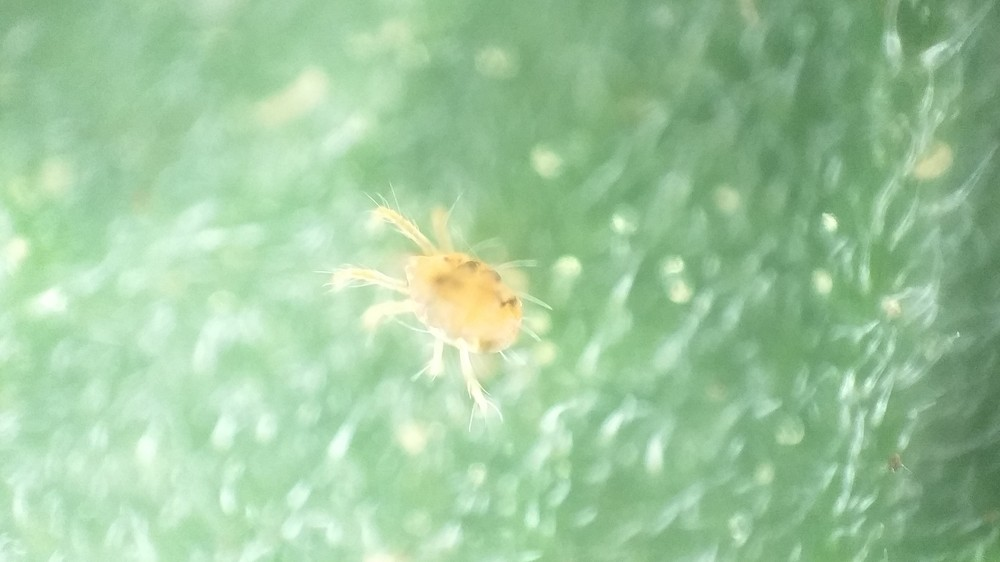Aracnido Rojo: (330, 195, 564, 420)
